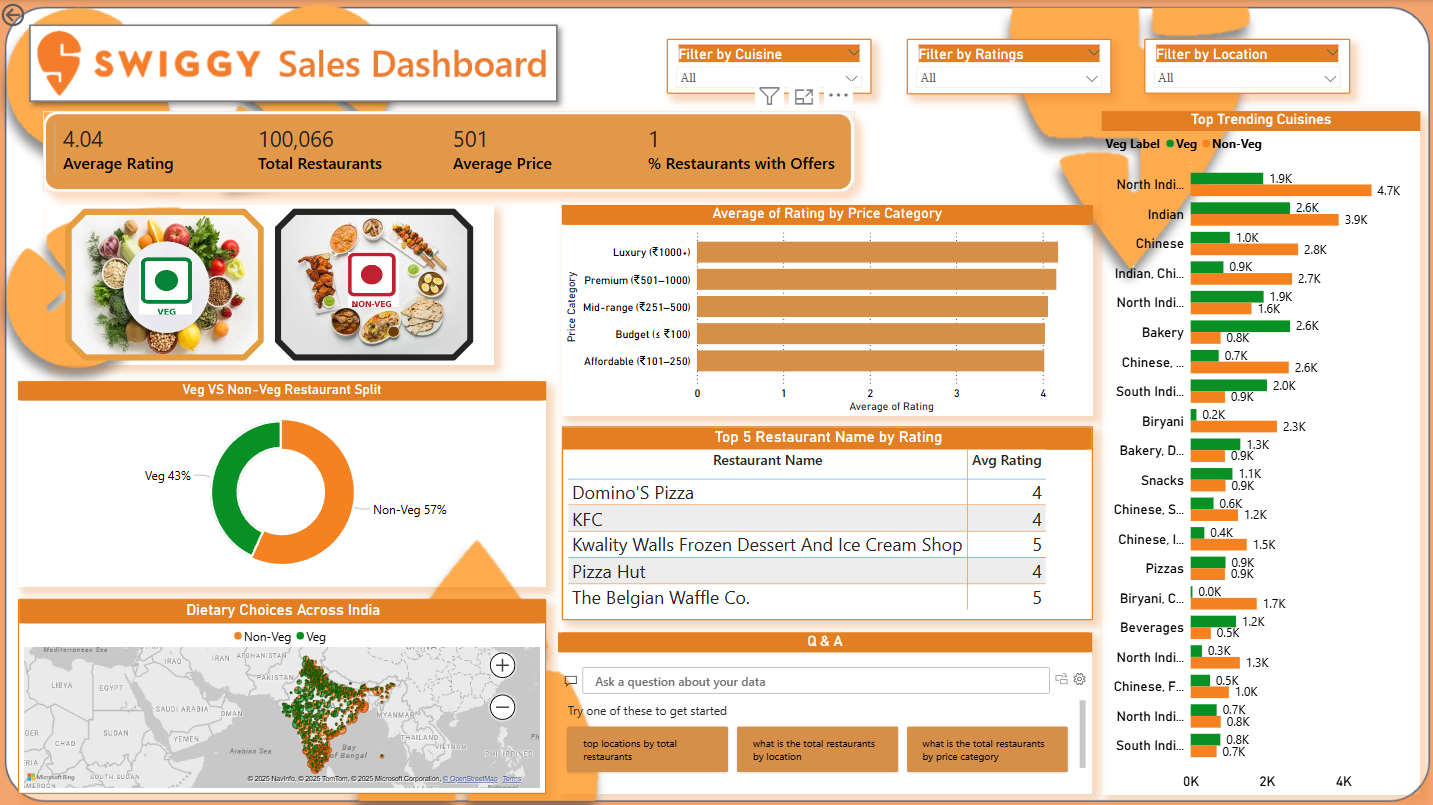

What the dashboard file says about the page in this screenshot:
{"tool":"powerbi","page":{"name":"Page 1","canvas":[1920,1080],"ordinal":0},"visuals":[{"type":"advancedSlicerVisual","fields":{"Values":["image_links.Column2"]},"box":[65.8,273.5,596.4,213.9],"z":0},{"type":"donutChart","title":"Veg VS Non-Veg Restaurant Split","fields":{"Y":["Swiggyy_Final_With_Calculated_Columns.Total Restaurants"],"Category":["Swiggyy_Final_With_Calculated_Columns.Veg Label"]},"box":[26.7,510,705.4,275.6],"z":1000},{"type":"slicer","fields":{"Values":["Swiggyy_Final_With_Calculated_Columns.Cuisine"]},"box":[893.3,51.7,273.3,73.3],"z":2000},{"type":"slicer","fields":{"Values":["Swiggyy_Final_With_Calculated_Columns.Location"]},"box":[1531.7,51.7,275,73.3],"z":3000},{"type":"tableEx","title":"Top 5 Restaurant Name by Rating","fields":{"Values":["Swiggyy_Final_With_Calculated_Columns.Restaurant Name","Swiggyy_Final_With_Calculated_Columns.Avg Rating"]},"box":[752.7,569.7,709.5,259.1],"z":4000},{"type":"actionButton","box":[0,0,100,40],"z":5000},{"type":"map","title":"Dietary Choices Across India","fields":{"Category":["Swiggyy_Final_With_Calculated_Columns.Location"],"Size":["CountNonNull(Swiggyy_Final_With_Calculated_Columns.Restaurant Name)"],"Series":["Swiggyy_Final_With_Calculated_Columns.Veg Label"]},"box":[26.7,800,705.4,261.2],"z":6000},{"type":"barChart","fields":{"Category":["Swiggyy_Final_With_Calculated_Columns.Price Category"],"Y":["Avg(Swiggyy_Final_With_Calculated_Columns.Rating)"]},"box":[752.7,273.5,709.5,281.7],"z":7000},{"type":"slicer","fields":{"Values":["Swiggyy_Final_With_Calculated_Columns.Number of Ratings"]},"box":[1213.4,51.4,273.5,74],"z":8000},{"type":"qnaVisual","title":"Q & A ","box":[748.6,845.2,713.6,215.9],"z":9000},{"type":"clusteredBarChart","title":"Top Trending Cuisines","fields":{"Category":["Swiggyy_Final_With_Calculated_Columns.Cuisine"],"Y":["CountNonNull(Swiggyy_Final_With_Calculated_Columns.Restaurant Name)"],"Series":["Swiggyy_Final_With_Calculated_Columns.Veg Label"]},"box":[1474.6,148.1,425.7,913.1],"z":10000},{"type":"multiRowCard","fields":{"Values":["Swiggyy_Final_With_Calculated_Columns.Avg Rating","Swiggyy_Final_With_Calculated_Columns.Total Restaurants","Swiggyy_Final_With_Calculated_Columns.Average Price","Swiggyy_Final_With_Calculated_Columns.% Restaurants with Offers FIXED"]},"box":[60,148.3,1083.3,108.3],"z":15001}]}

Visuals, with their boxes in screenshot pixels (x1, y1, x2, y2), scaled from the page's 1920x1080 canvas onto the 1433x805 screenshot:
advancedSlicerVisual - image_links.Column2: bbox=(49, 204, 494, 363)
"Veg VS Non-Veg Restaurant Split" donutChart: bbox=(20, 380, 546, 586)
slicer - Swiggyy_Final_With_Calculated_Columns.Cuisine: bbox=(667, 39, 871, 93)
slicer - Swiggyy_Final_With_Calculated_Columns.Location: bbox=(1143, 39, 1348, 93)
"Top 5 Restaurant Name by Rating" tableEx: bbox=(562, 425, 1091, 618)
actionButton: bbox=(0, 0, 75, 30)
"Dietary Choices Across India" map: bbox=(20, 596, 546, 791)
barChart - Swiggyy_Final_With_Calculated_Columns.Price Category x Avg(Swiggyy_Final_With_Calculated_Columns.Rating): bbox=(562, 204, 1091, 414)
slicer - Swiggyy_Final_With_Calculated_Columns.Number of Ratings: bbox=(906, 38, 1110, 93)
"Q & A " qnaVisual: bbox=(559, 630, 1091, 791)
"Top Trending Cuisines" clusteredBarChart: bbox=(1101, 110, 1418, 791)
multiRowCard - Swiggyy_Final_With_Calculated_Columns.Avg Rating x Swiggyy_Final_With_Calculated_Columns.Total Restaurants: bbox=(45, 111, 853, 191)
